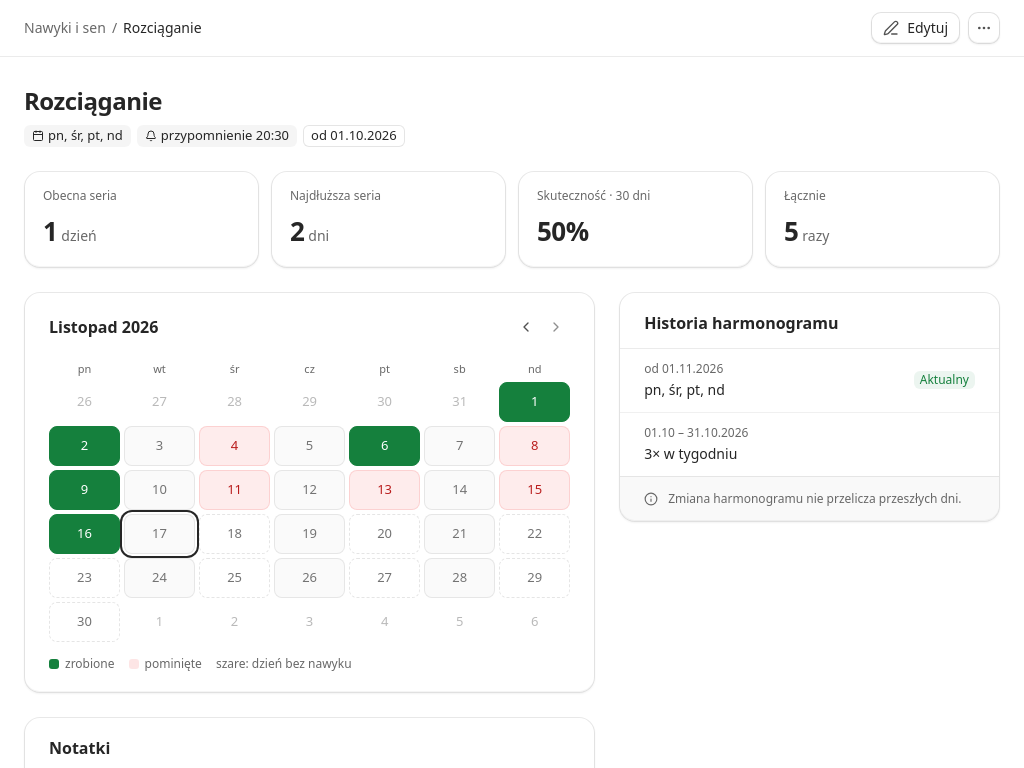
HabitDetail › błąd usuwania pokazuje komunikat i zostaje na stronie
Click the button named "Więcej akcji": x=984, y=28 [968,12,1000,44]
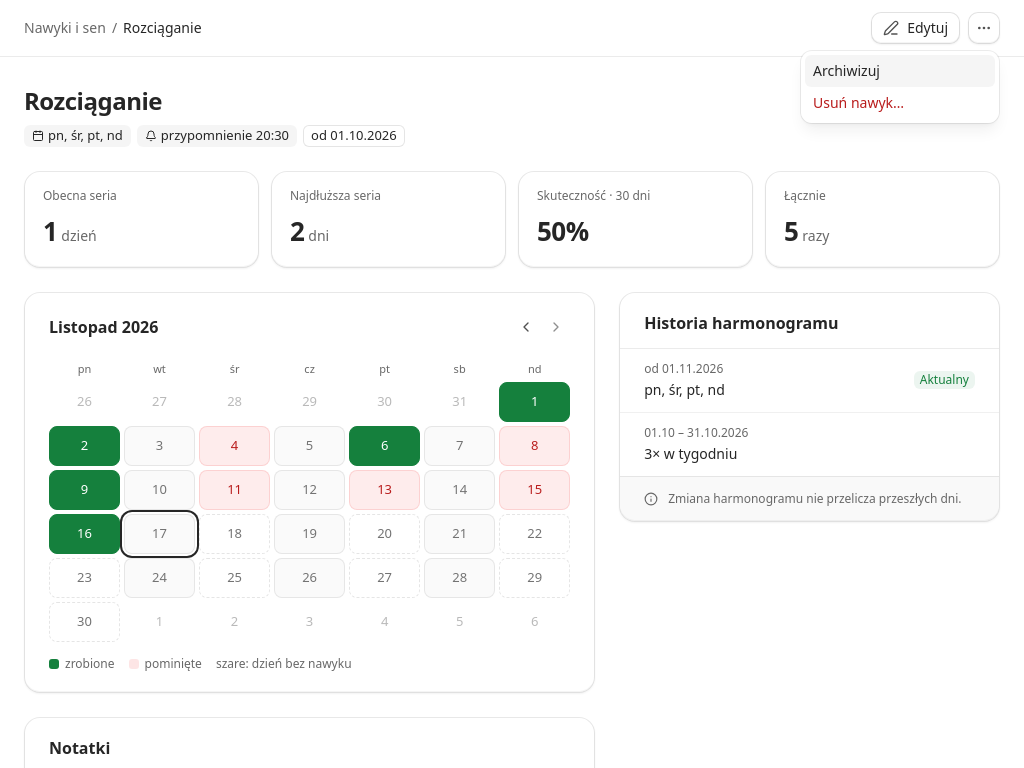
Click the button "Usuń nawyk…": x=900, y=103 [805,87,995,119]
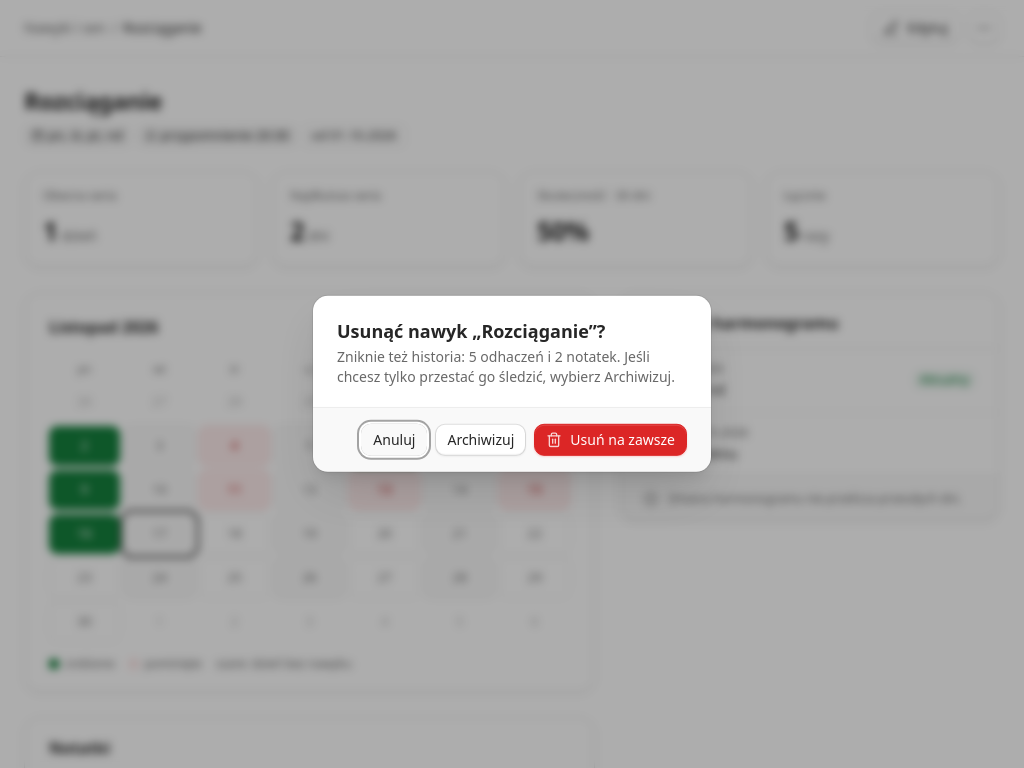
Click the button "Usuń na zawsze": x=611, y=440 [534,424,687,456]
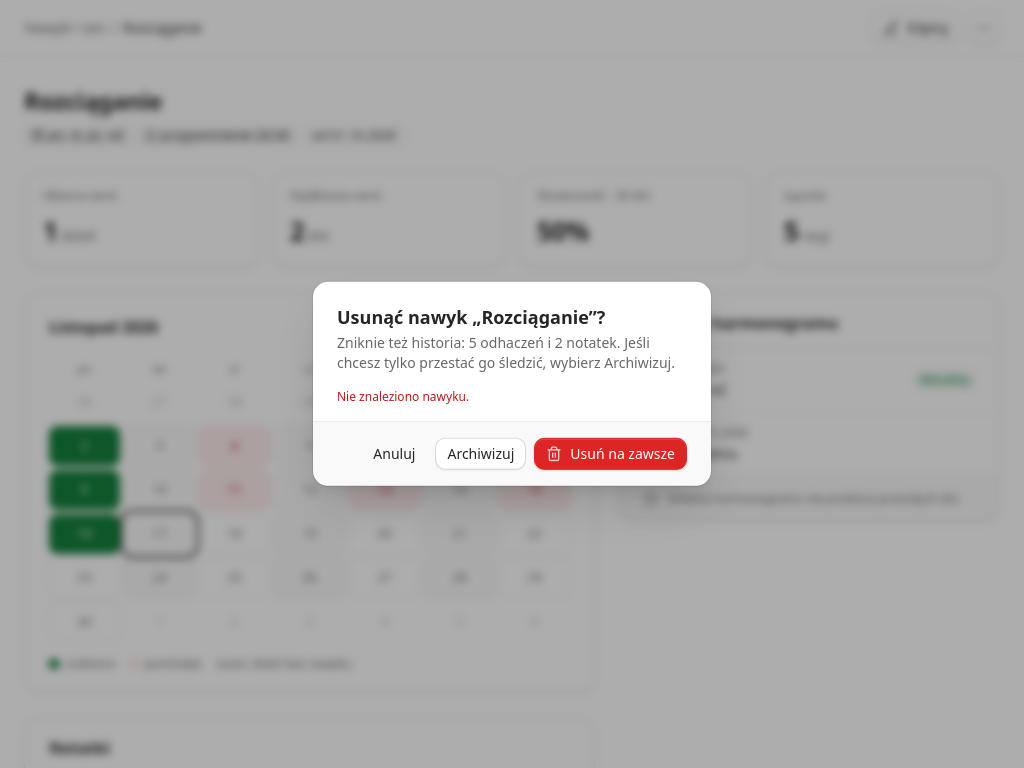
Now the message reads "Nie znaleziono nawyku.", box [337,388,469,405]
